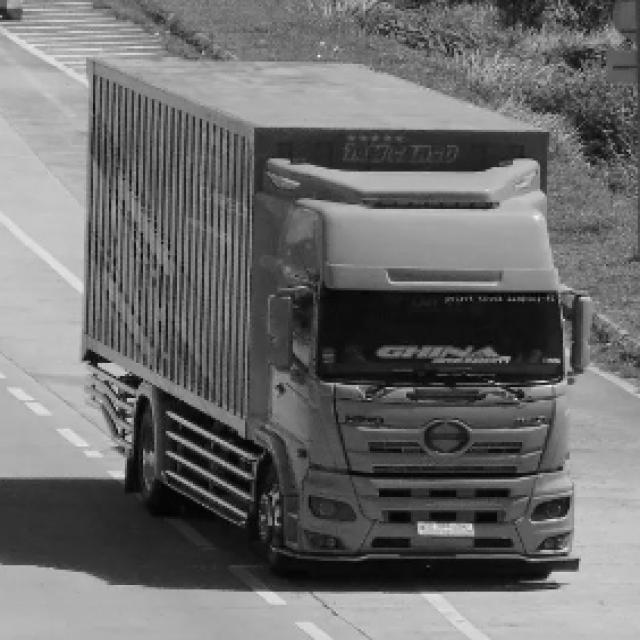Truck: (64, 18, 596, 596)
